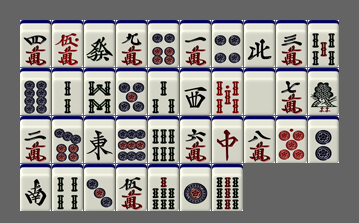0m: (52, 20, 83, 67)
0p: (276, 116, 307, 163)
0s: (212, 68, 243, 115)
1m: (180, 20, 211, 67)
1p: (180, 164, 211, 211)
1s: (308, 68, 339, 115)
1z: (84, 116, 115, 163)
2m: (20, 116, 51, 163)
2p: (308, 116, 339, 163)
2s: (52, 68, 83, 115)
2z: (20, 164, 51, 211)
3m: (276, 20, 307, 67)
3p: (84, 164, 115, 211)
3s: (148, 68, 179, 115)
3z: (180, 68, 211, 115)
4m: (20, 20, 51, 67)
4p: (212, 20, 243, 67)
4s: (52, 164, 83, 211)
4z: (244, 20, 275, 67)
5m: (116, 164, 147, 211)
5p: (116, 68, 147, 115)
5s: (308, 20, 339, 67)
5z: (244, 68, 275, 115)
6m: (180, 116, 211, 163)
6p: (148, 20, 179, 67)
6s: (148, 116, 179, 163)
6z: (84, 20, 115, 67)
7m: (276, 68, 307, 115)
7p: (52, 116, 83, 163)
7s: (148, 164, 179, 211)
7z: (212, 116, 243, 163)
8m: (244, 116, 275, 163)
8p: (20, 68, 51, 115)
8s: (84, 68, 115, 115)
9m: (116, 20, 147, 67)
9p: (116, 116, 147, 163)
9s: (212, 164, 243, 211)
